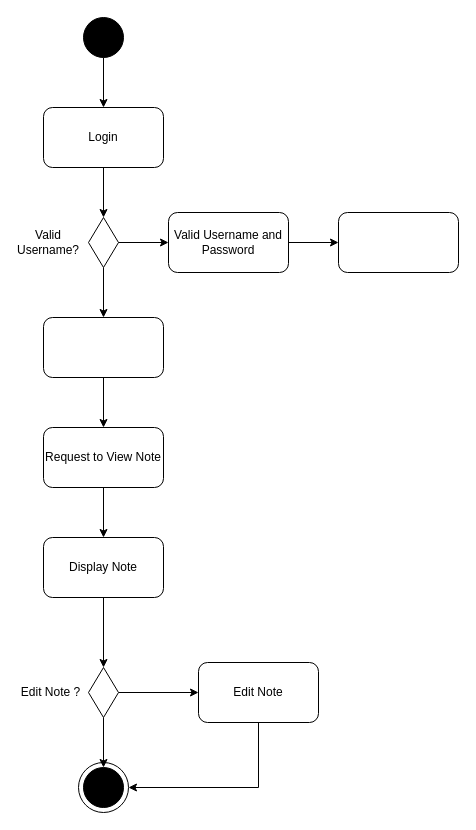
The diagram is 476 pixels wide and 830 high, and some of its shapes have lost their labels. Here are the shapes that lost their labels. From the top down, the centre of each, then its label:
[398,242]: Request Valid Credentials
[103,347]: Display User Login
